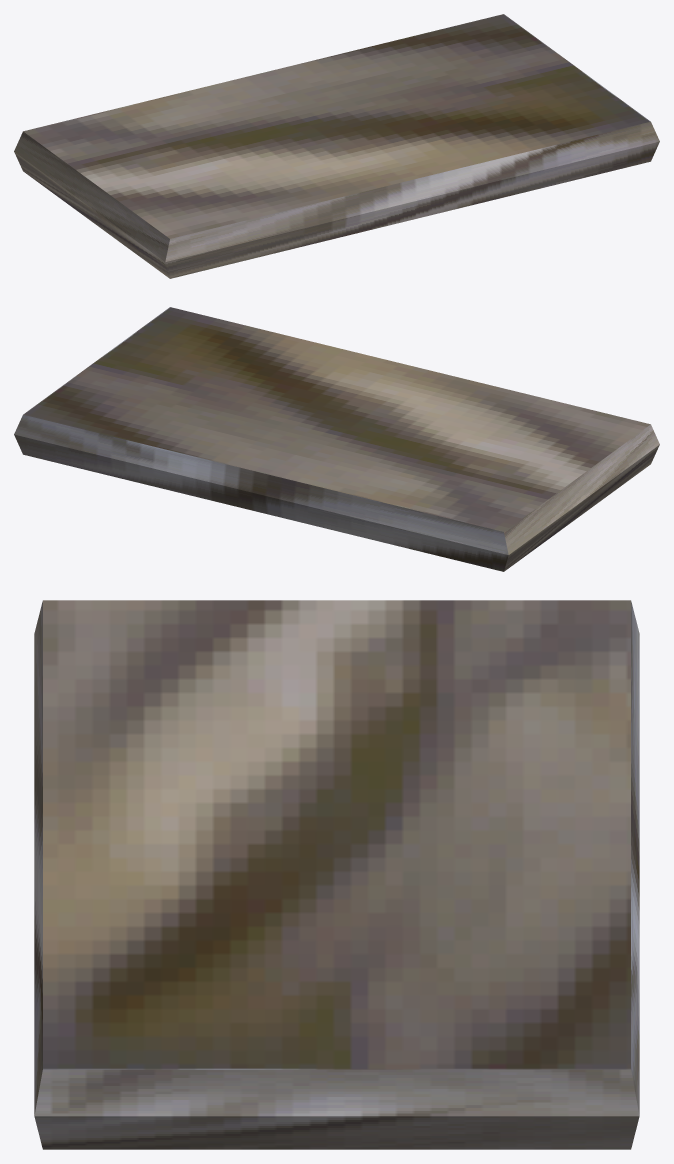
Rendered from SM_Mattress.fbx.
3 renders of one model, top to bottom at view 1: azimuth 30°, elevation 25°; view 2: azimuth 150°, elevation 25°; view 3: azimuth 270°, elevation 25°, orthographic. The views are drawn at different scales.
Parts seen in each view (by area): view 1: SM_Mattress; view 2: SM_Mattress; view 3: SM_Mattress.
Boxes of the visible parts, x1,y1,x2,y2 form: SM_Mattress: (14,14,659,278); SM_Mattress: (14,307,659,571); SM_Mattress: (34,600,639,1149).
Size of the model in its own units: 188 by 14.5 by 99.42.
